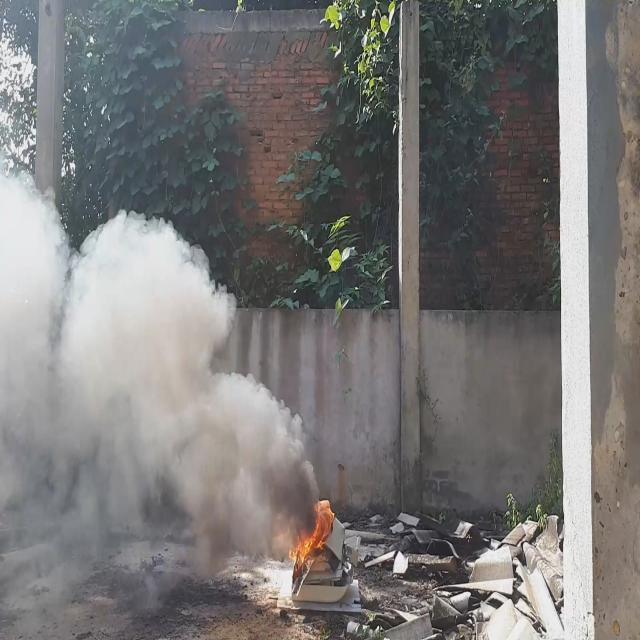Fire: (288, 482, 336, 578)
Smoke: (0, 148, 320, 584)
